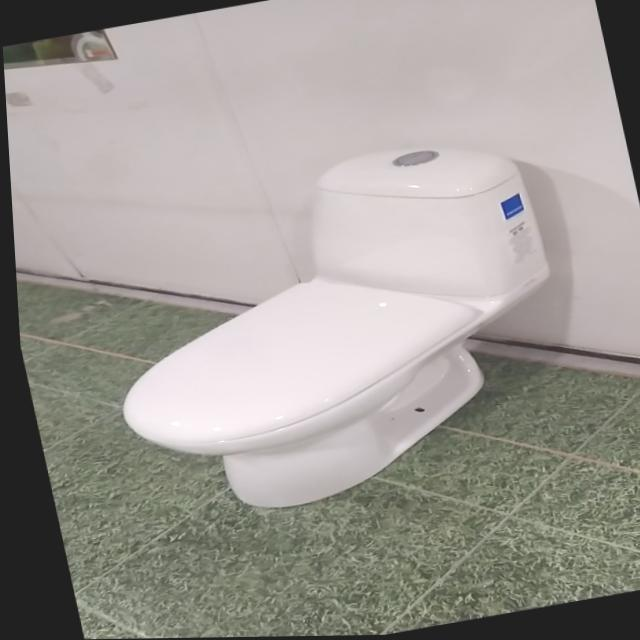toilet: (69, 127, 589, 533)
